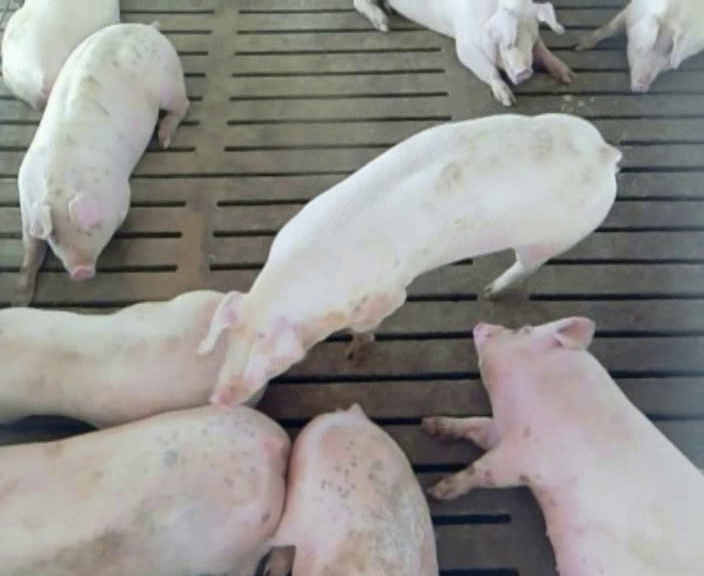pig: (199, 114, 620, 401), (422, 317, 703, 573), (14, 24, 188, 304), (0, 406, 288, 573), (229, 404, 437, 575), (2, 2, 119, 109), (576, 2, 703, 91)
